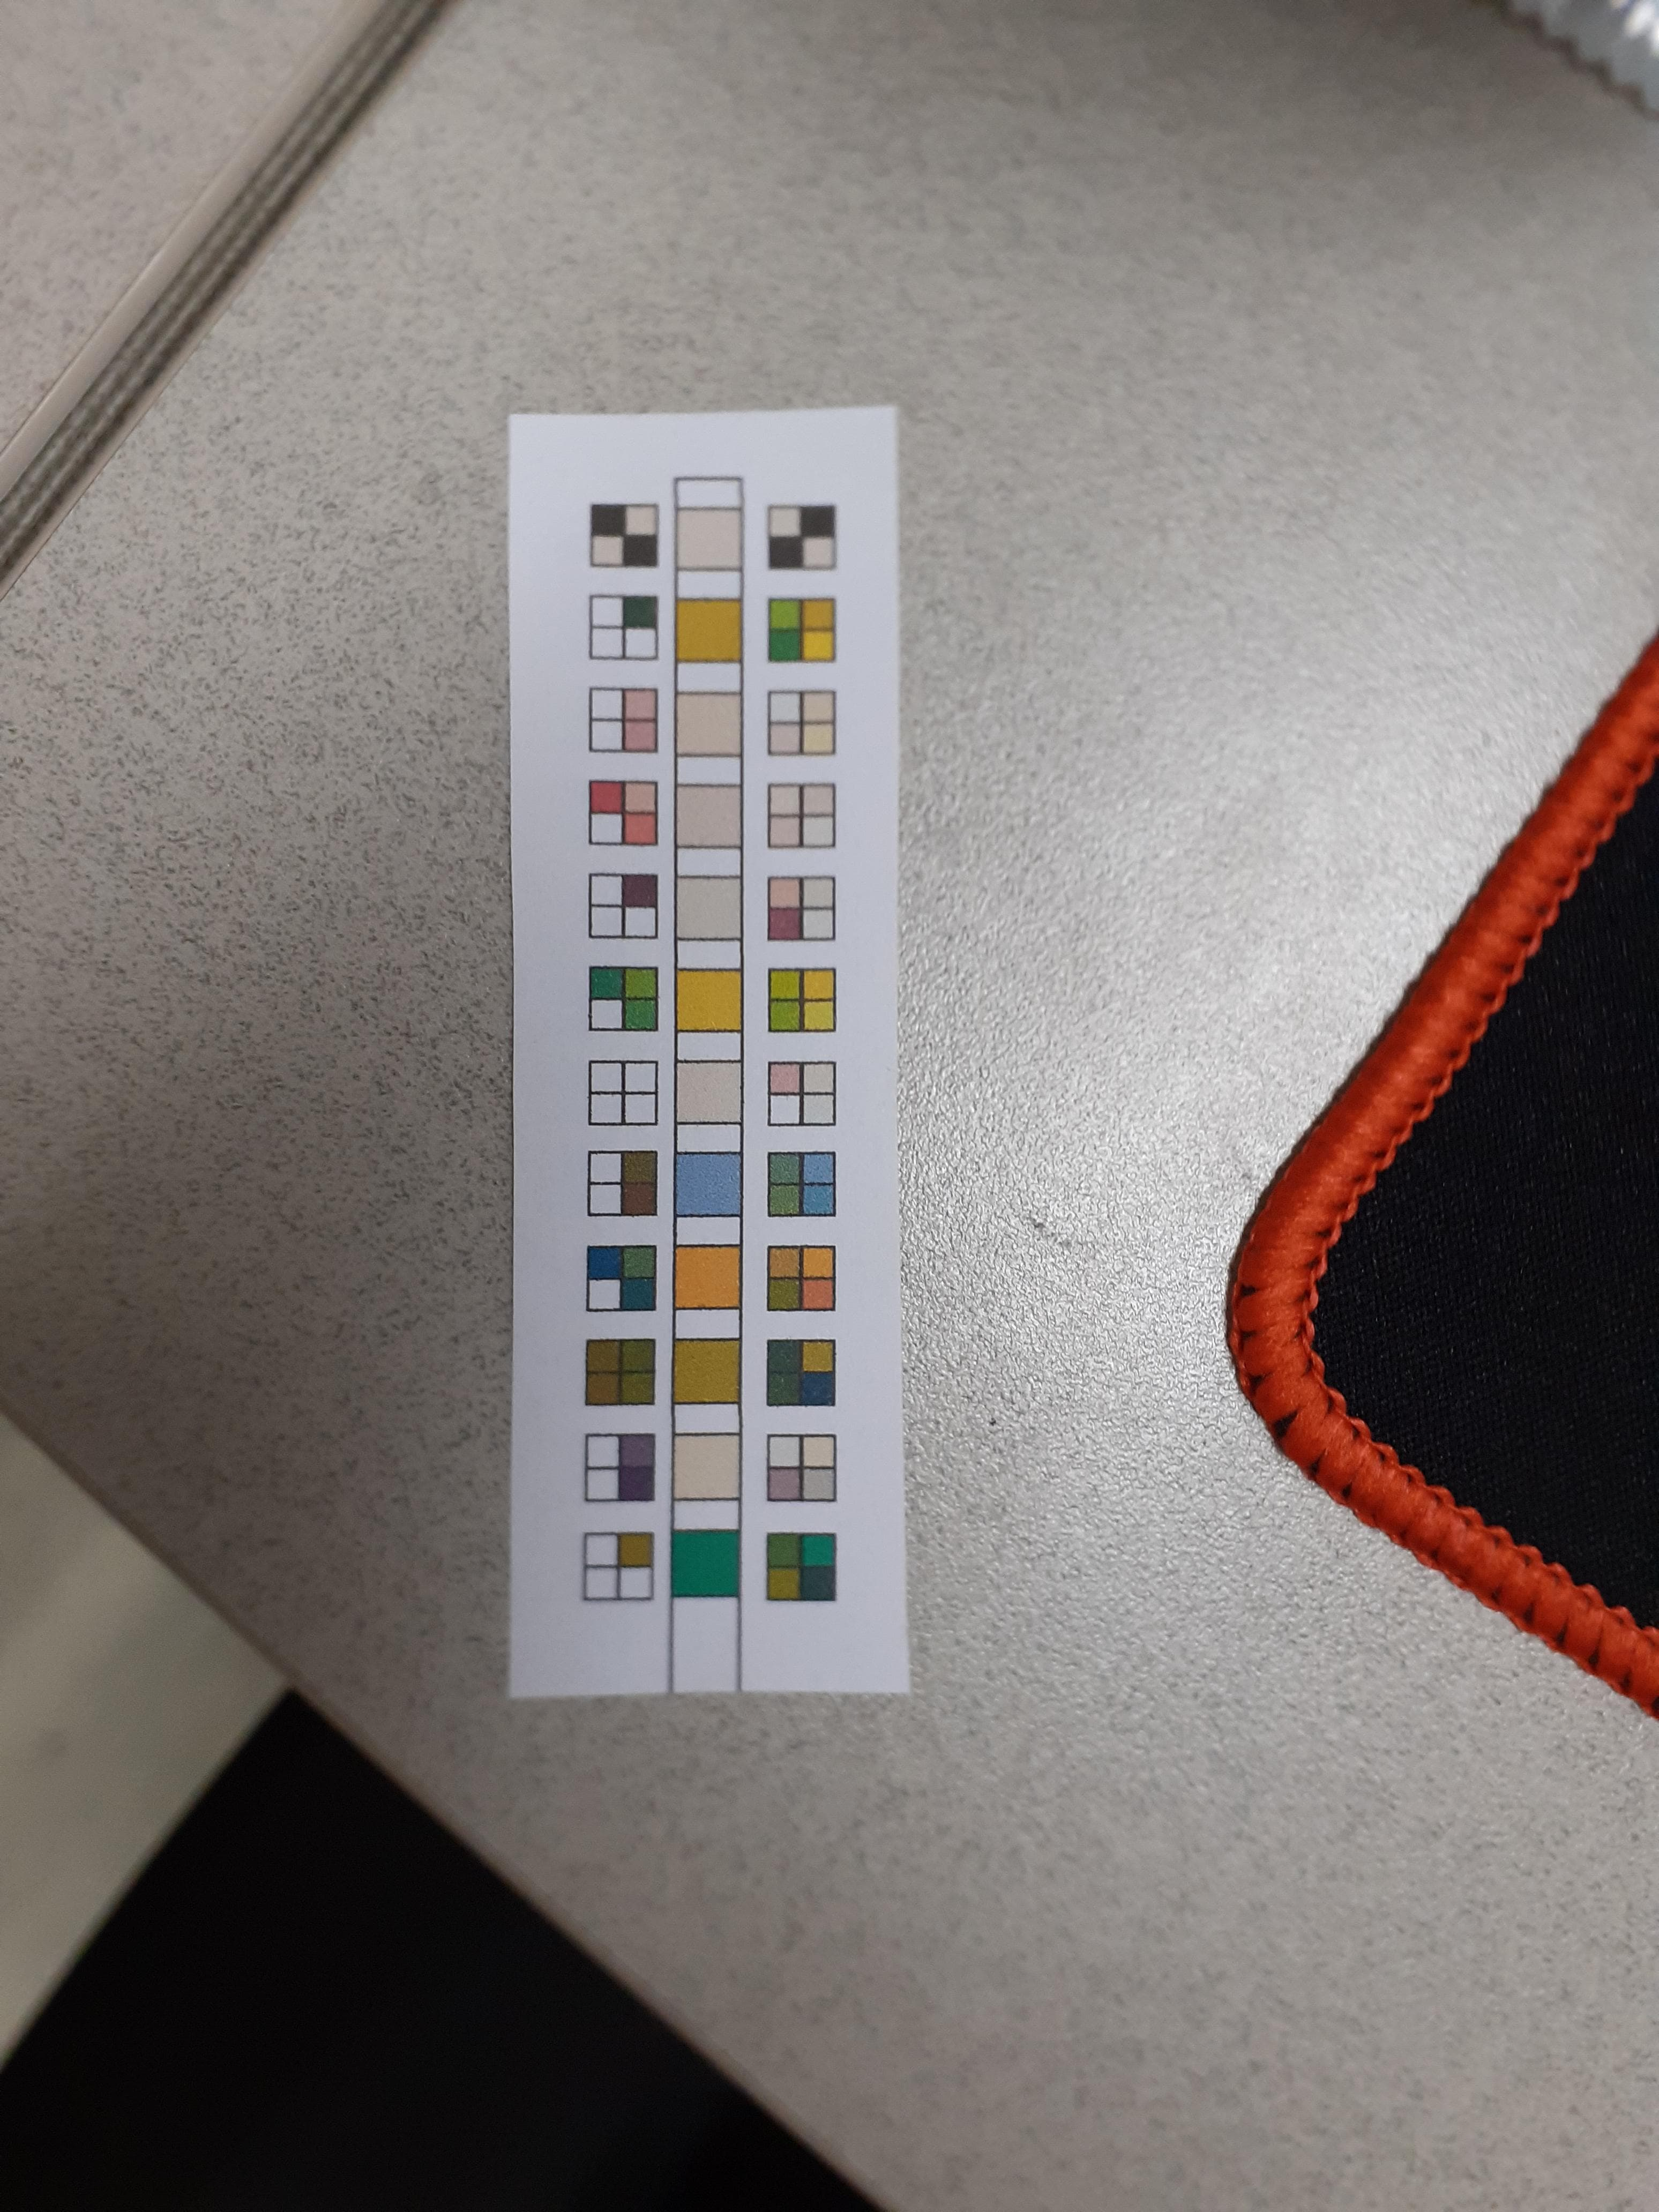tester: (509, 411, 904, 1700)
